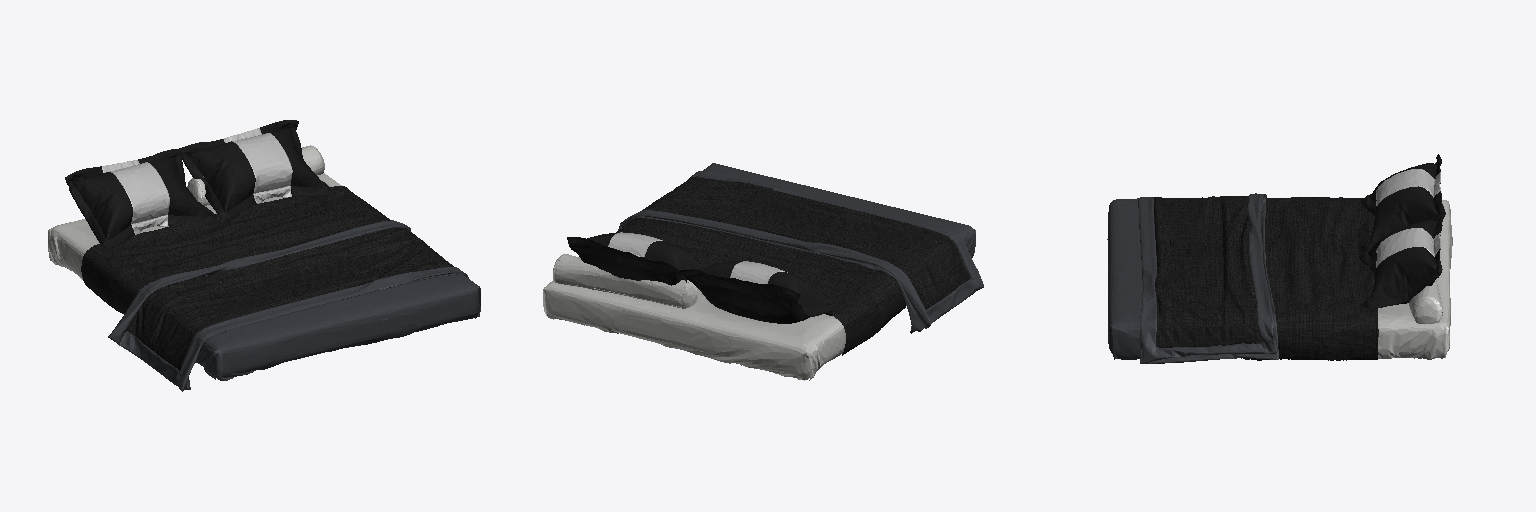
The picture shows the model from 3 angles: view 1: azimuth 30°, elevation 25°; view 2: azimuth 150°, elevation 25°; view 3: azimuth 270°, elevation 25°; orthographic projection.
Bounding box in the file's own units: 2.02 × 0.6442 × 1.94.
1 materials, 1 textured.